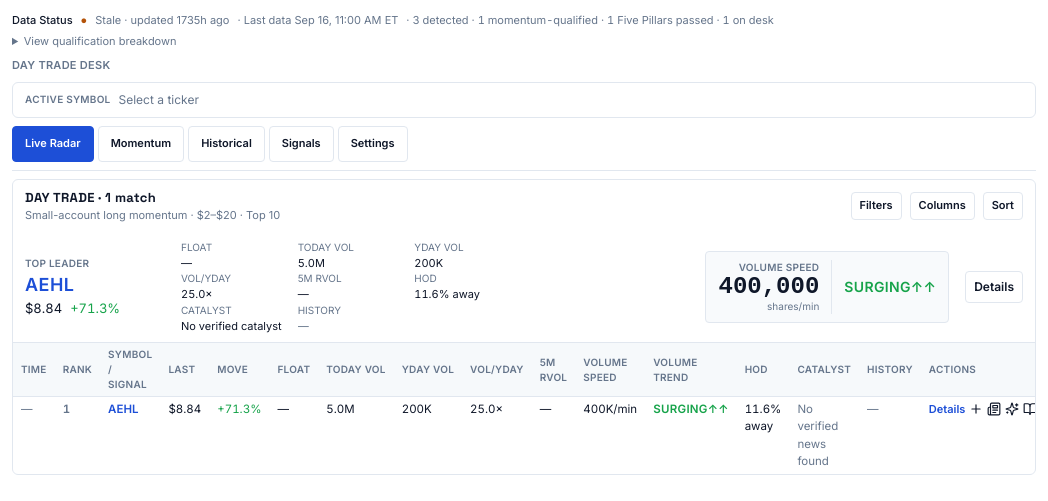
it: Radar workspace layout › persists active symbol when switching desktop workspace tabs
This screenshot has width=1048, height=501.
Click the row that starts with "AEHL": (524, 435) [13, 396, 1036, 474]
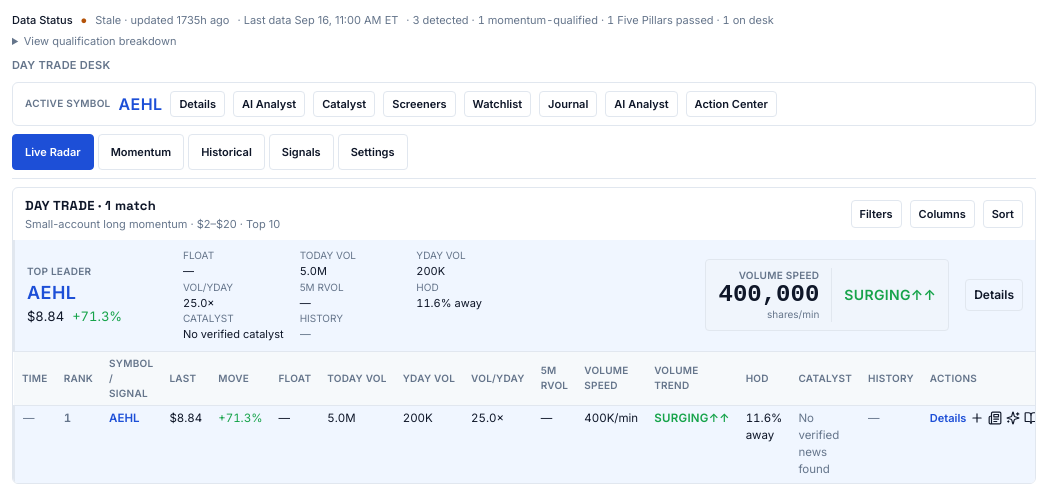
Click the tab "Signals": (301, 152) [269, 134, 334, 170]
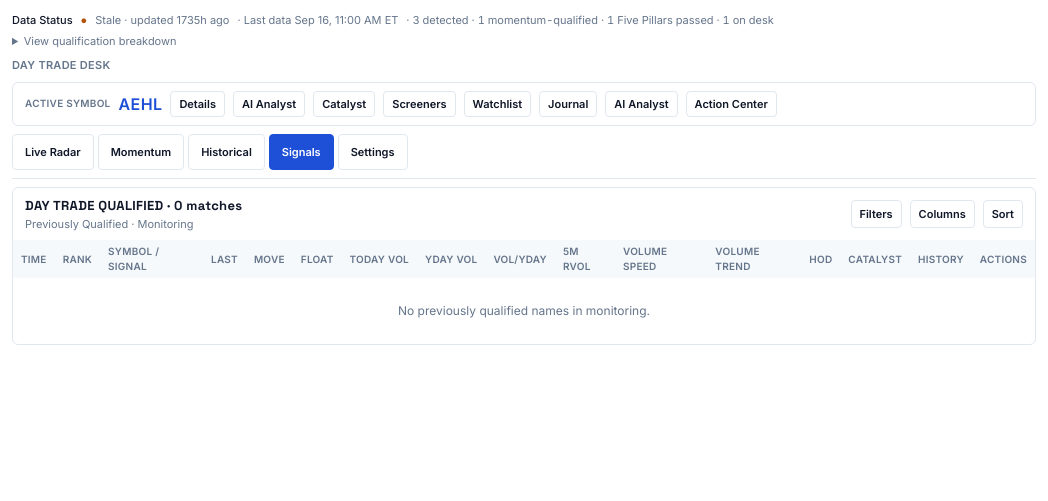
Expected: the text "AEHL" is shown, [118, 92, 162, 116]
Expected: the element with test id "radar-panel-day_trade" is gone
Click the tab "Live Radar": (53, 152) [12, 134, 94, 170]
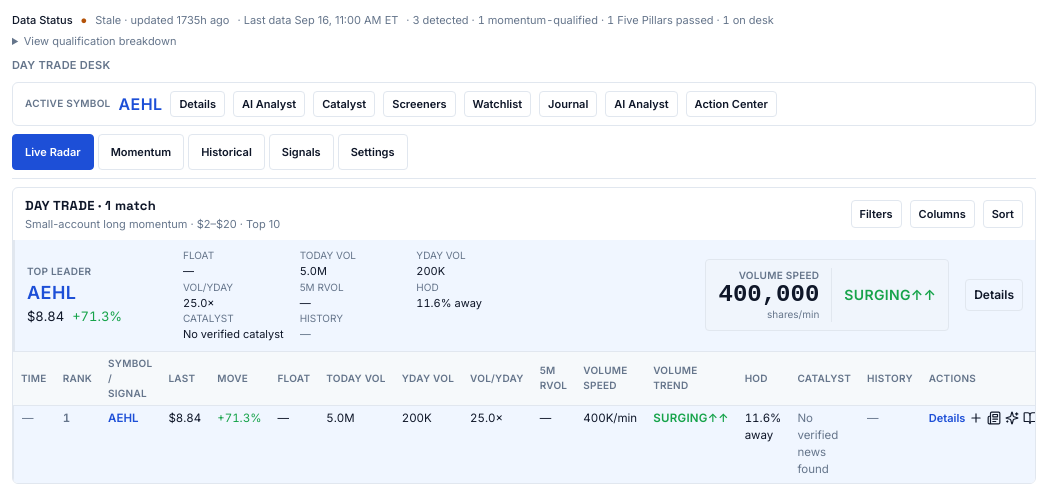
Expected: the row that starts with "AEHL" has attribute data-selected="true", [13, 405, 1035, 482]
